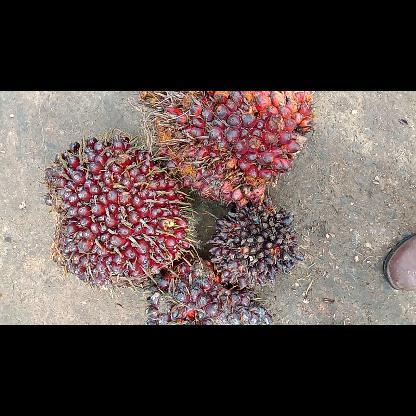Kurang masak: (42, 132, 194, 290), (142, 256, 274, 324)
TBS abnormal: (204, 200, 304, 292)
TBS masak: (141, 90, 317, 208)
